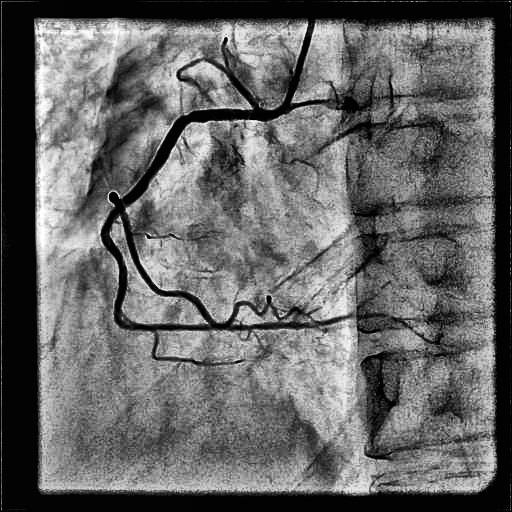pborca: (354, 281, 393, 311)
pda: (353, 311, 437, 344)
rca: (101, 109, 353, 330)
